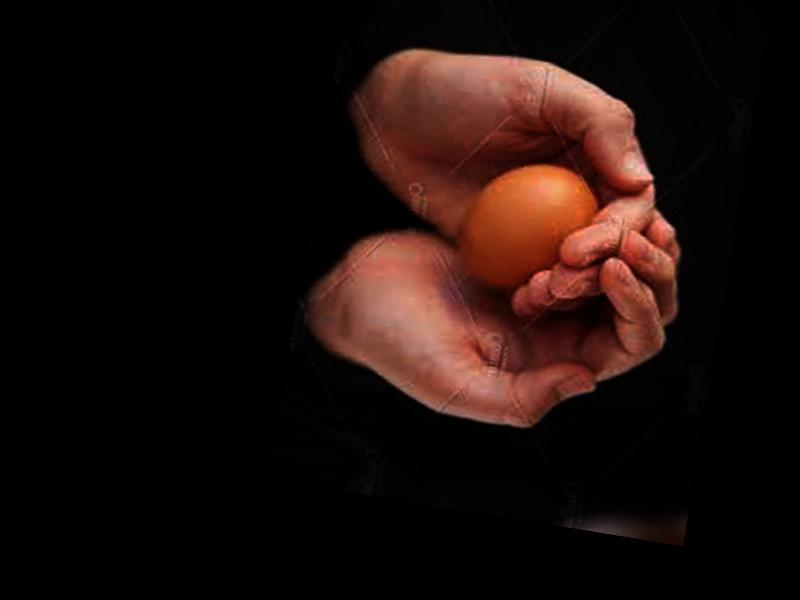Eggs: (448, 150, 600, 308)
